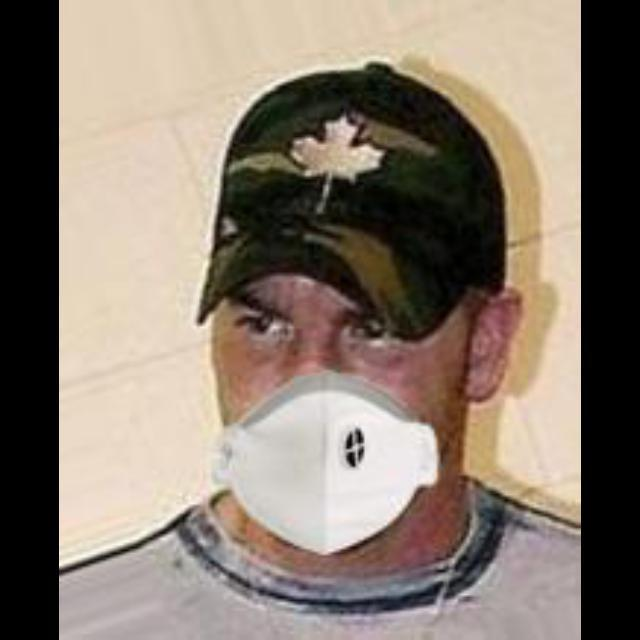suspicion: (196, 164, 468, 546)
